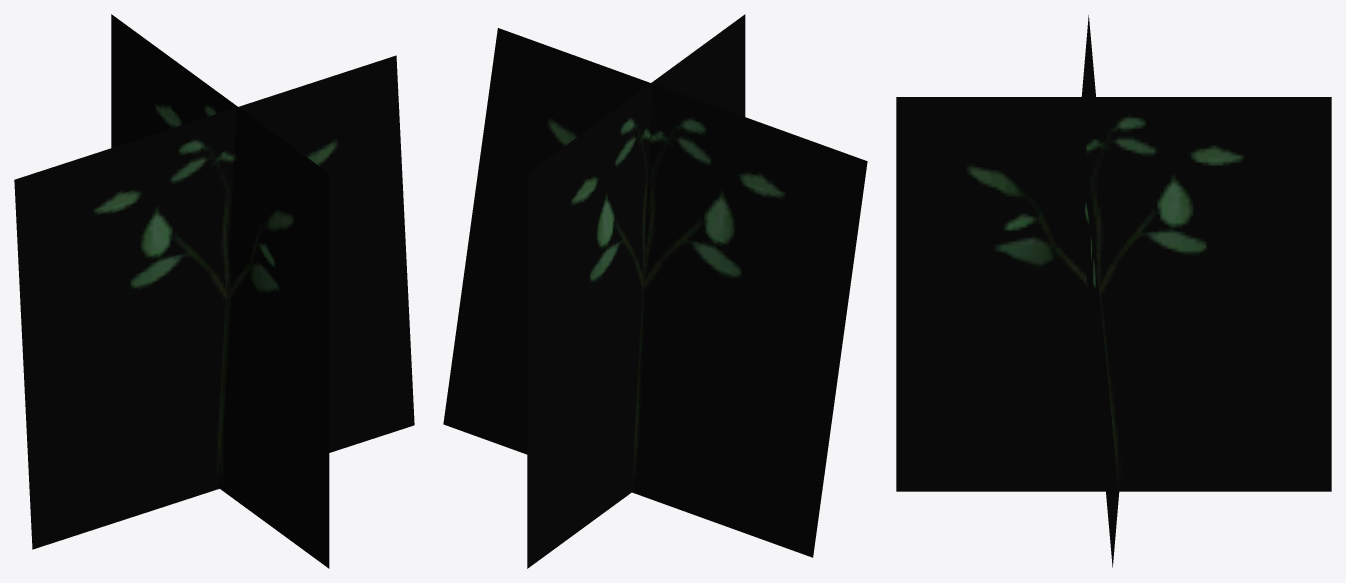
File: leaf_forestsprout_a1_l3.fbx
The picture shows the model from 3 angles, left to right: view 1: azimuth 30°, elevation 25°; view 2: azimuth 150°, elevation 25°; view 3: azimuth 270°, elevation 25°; orthographic projection.
Parts seen in each view (by area): view 1: mesh_node; view 2: mesh_node; view 3: mesh_node.
Part boxes in pixels (x1,y1,x2,y2): mesh_node: (14, 14, 414, 568); mesh_node: (443, 14, 867, 568); mesh_node: (896, 15, 1331, 567).
Size of the model in its own units: 0.8844 by 0.88 by 0.8104.
1 material, 1 textured.
